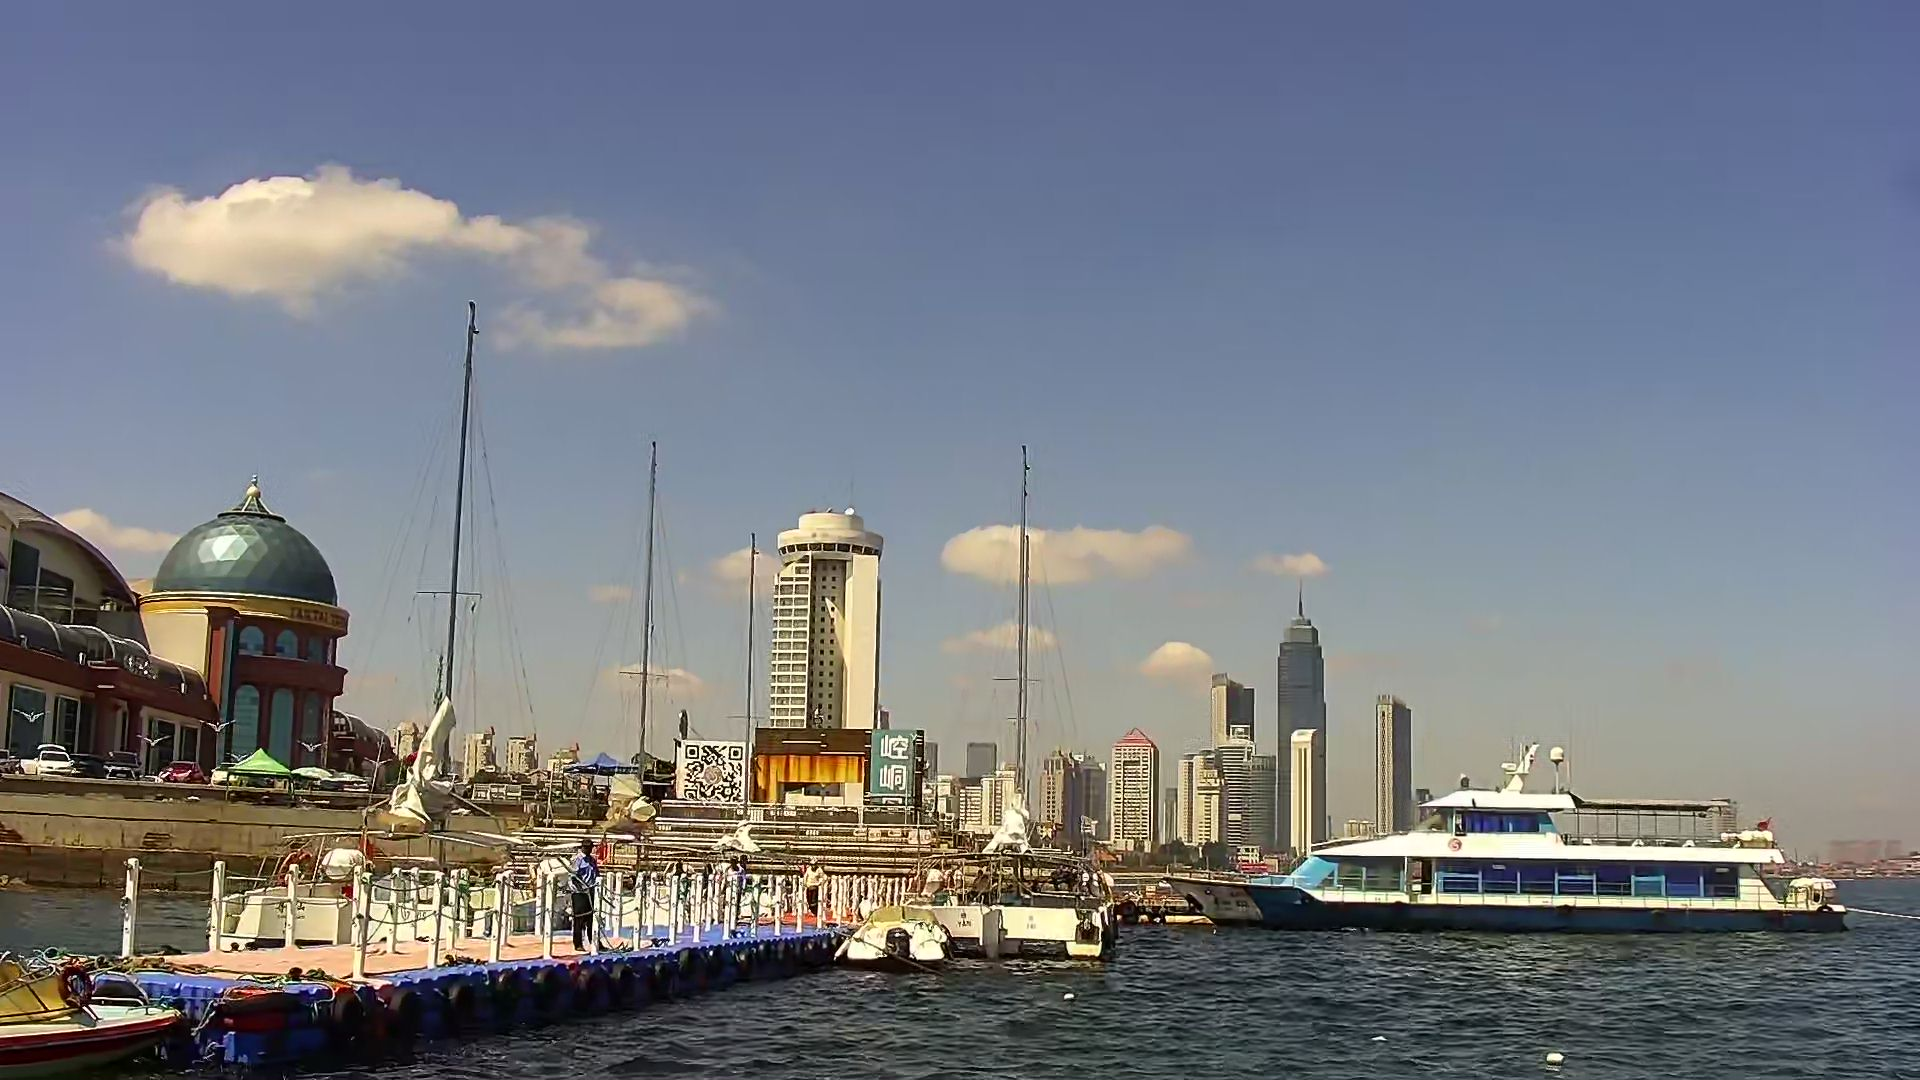boat: (190, 287, 531, 938), (905, 444, 1093, 963), (1, 942, 175, 1067), (835, 913, 948, 977)
harbor: (127, 853, 825, 1065)
rubbish: (1540, 1043, 1577, 1065)
ship: (1166, 735, 1865, 942)
